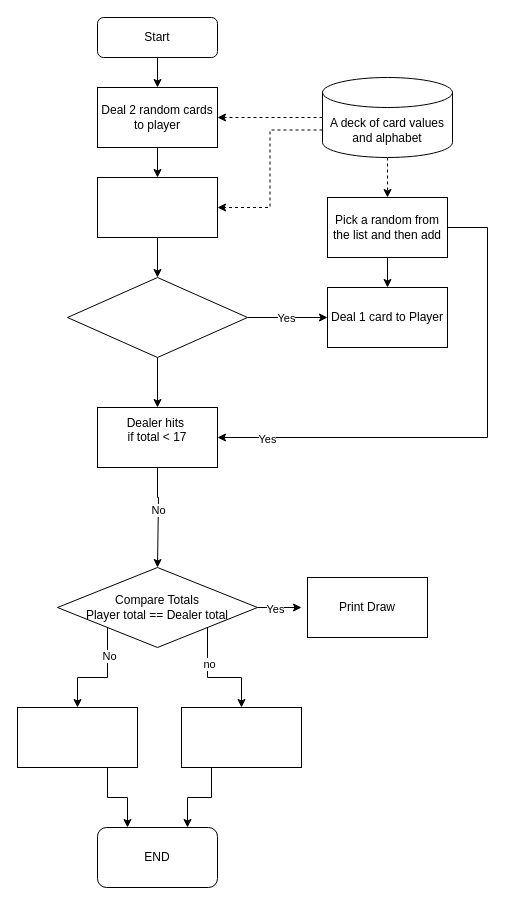
Image size: 513x905. Some labels were removed from this diagram. The centre of each missing label's shape, as x and y in pixels:
Deal 2 cards to computer (1 face up, 1 face down): point (157, 207)
Dealer Wins <= 21 & higher: point (241, 737)
Player hits (y/n): point (157, 317)
Players Wins (<=21 & higher): point (77, 737)
